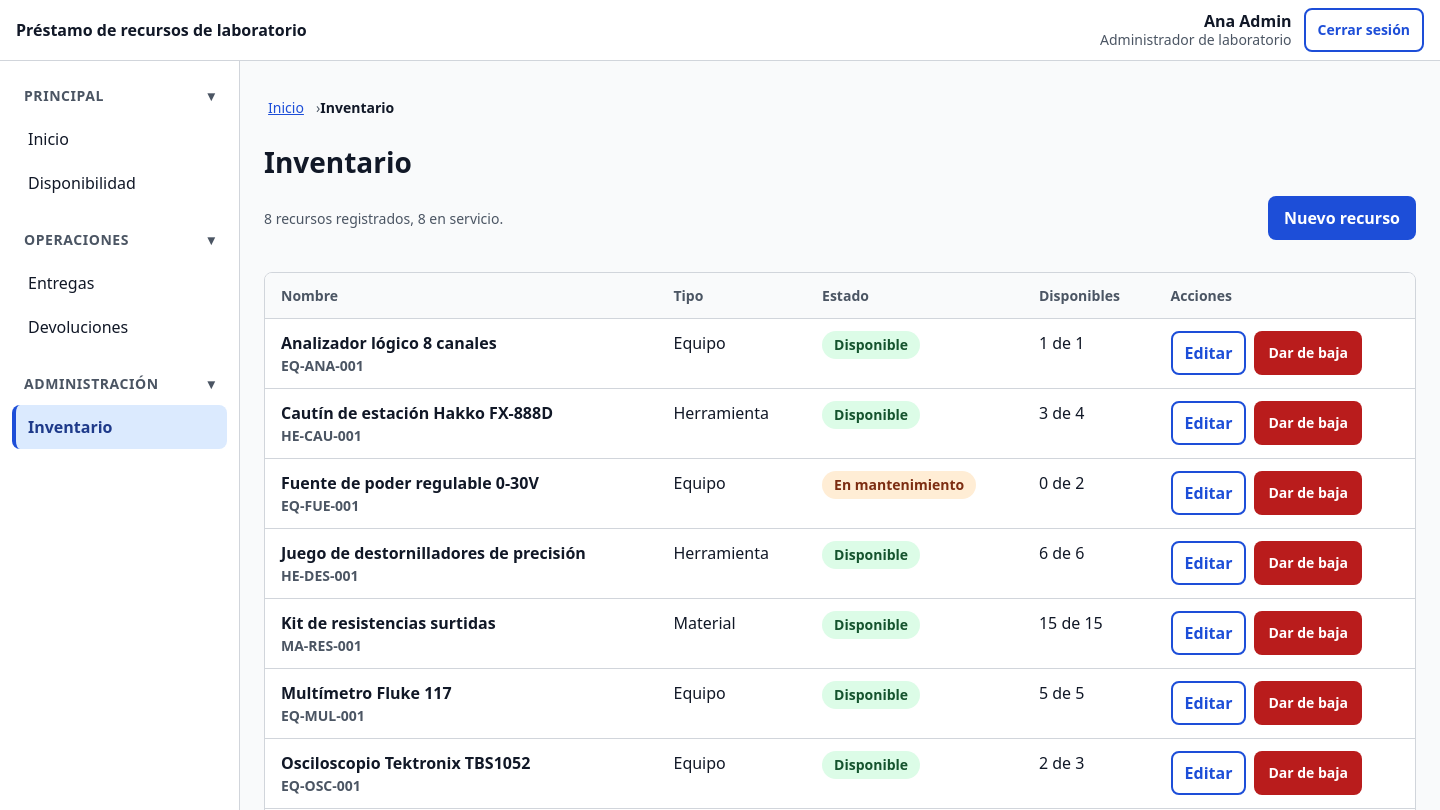
panel del administrador › un recurso dado de baja deja de contar como "en servicio"
What coordinates should you click on to do the following:
click the button with aria-label "Dar de baja Kit de resistencias surtidas"
I would click on:
 (1308, 633)
Its box is [1254,611,1362,655].
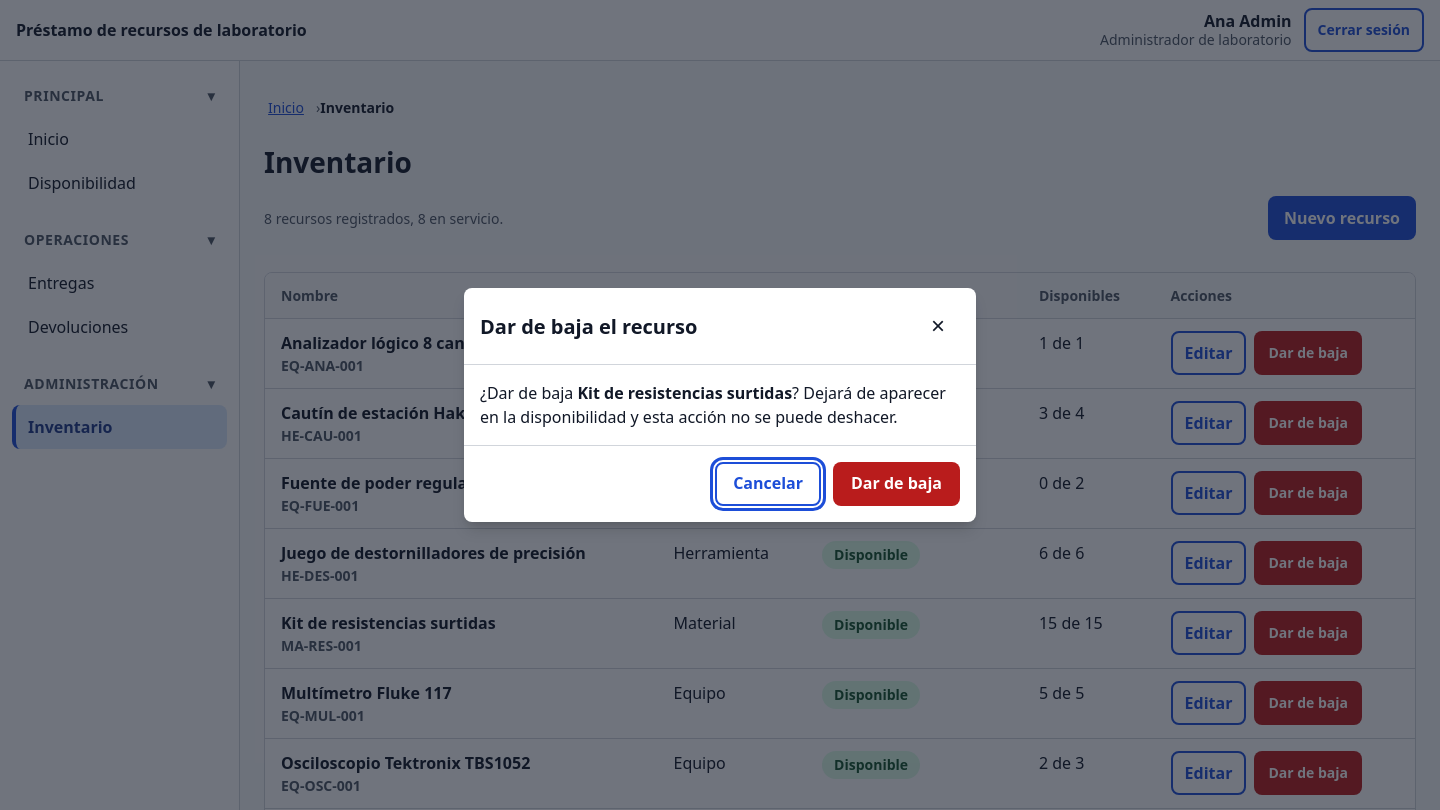
What coordinates should you click on to do the following:
click the button "Dar de baja"
I would click on:
 (896, 484)
Its box is [833,462,960,506].
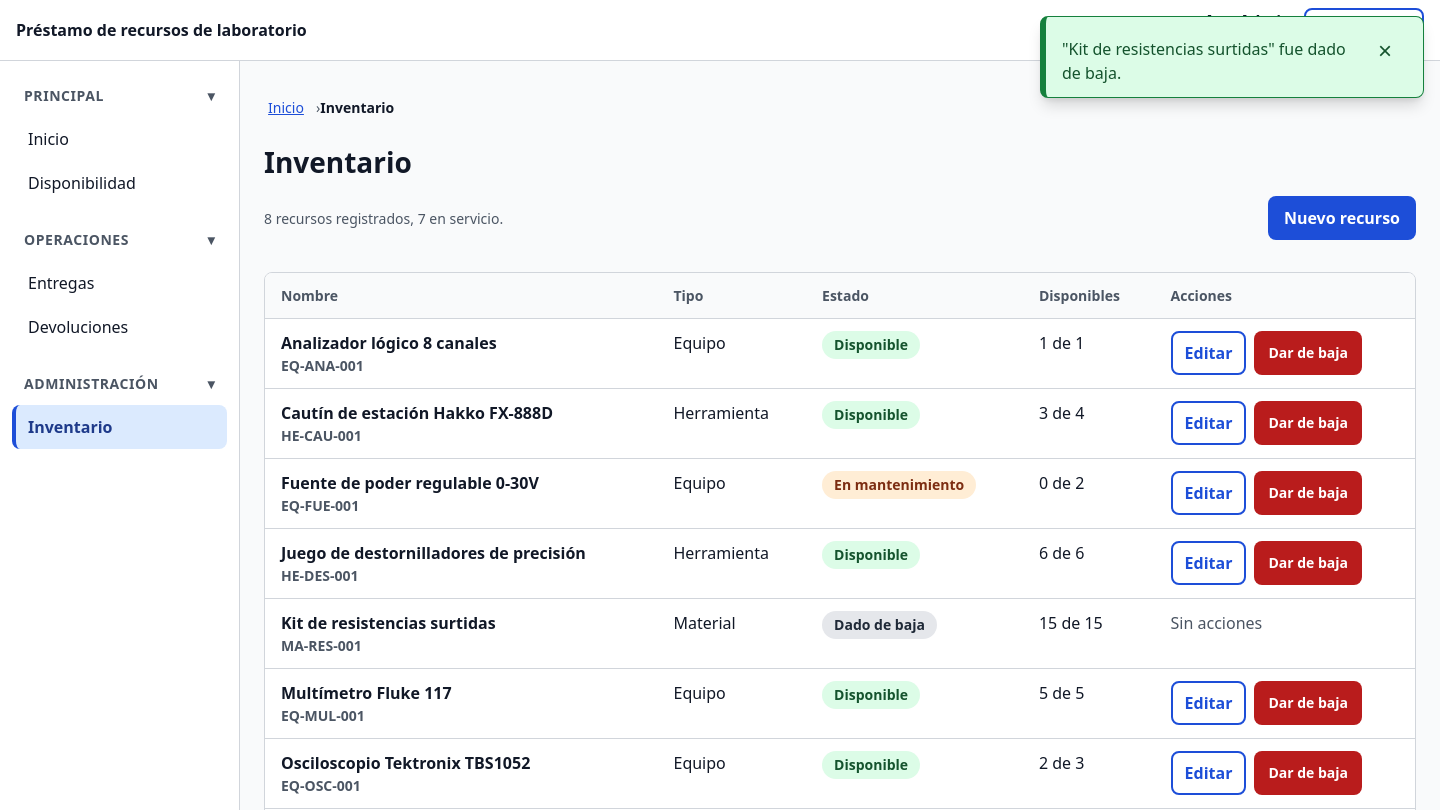
Now the text "\"Kit de resistencias surtidas\" fue dado de baja." is shown, box [1062,29,1351,85]
What coordinates should you click on to do the following:
click the 2nd link "Inicio"
I would click on:
 (48, 139)
Its box is [28,128,69,150].
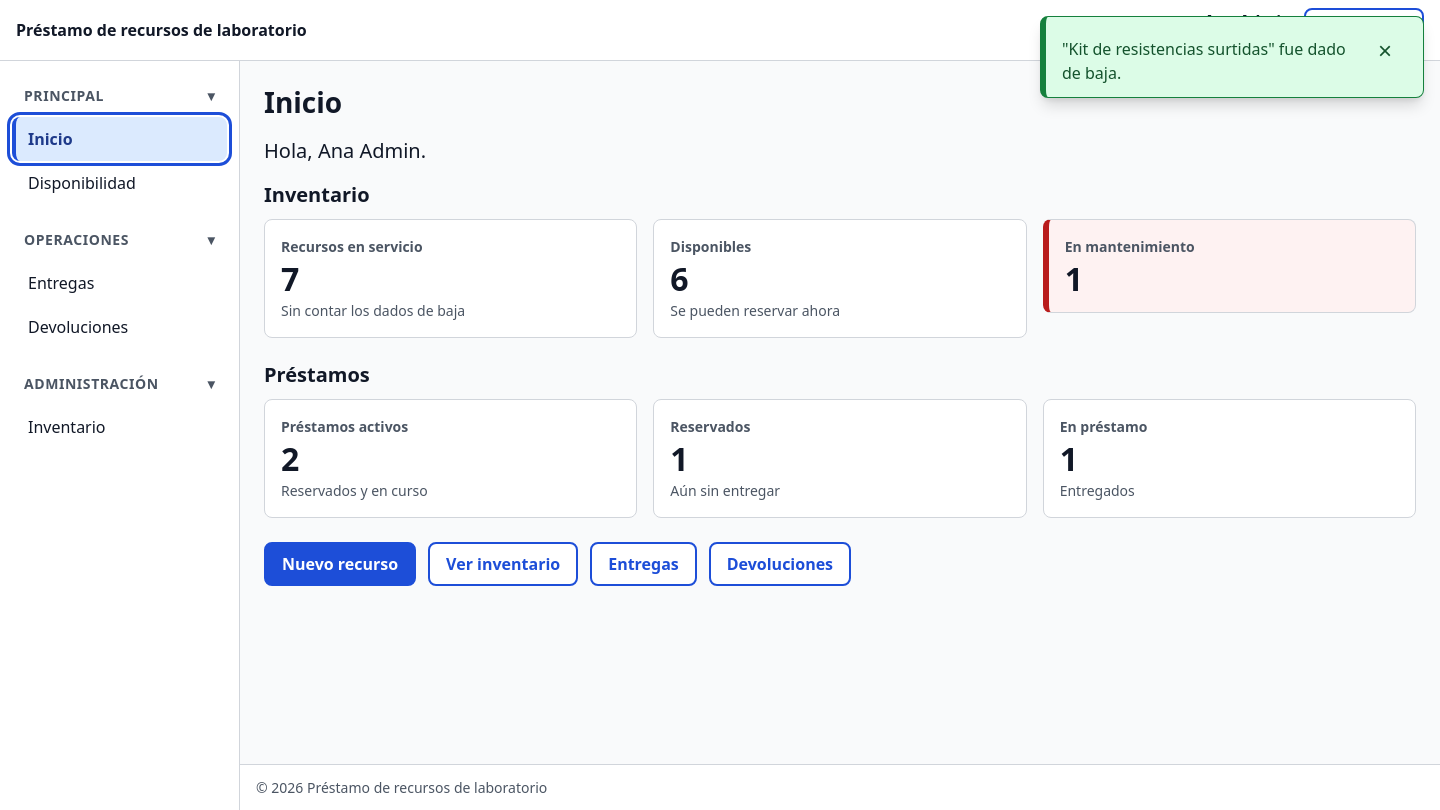
Now the text "Hola, Ana Admin." is shown, box [264,137,426,164]
